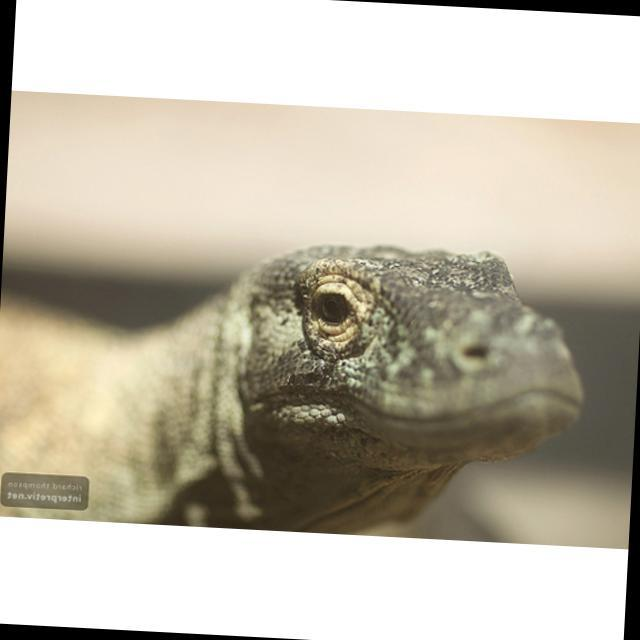KomodoDragon: (0, 222, 593, 538)
